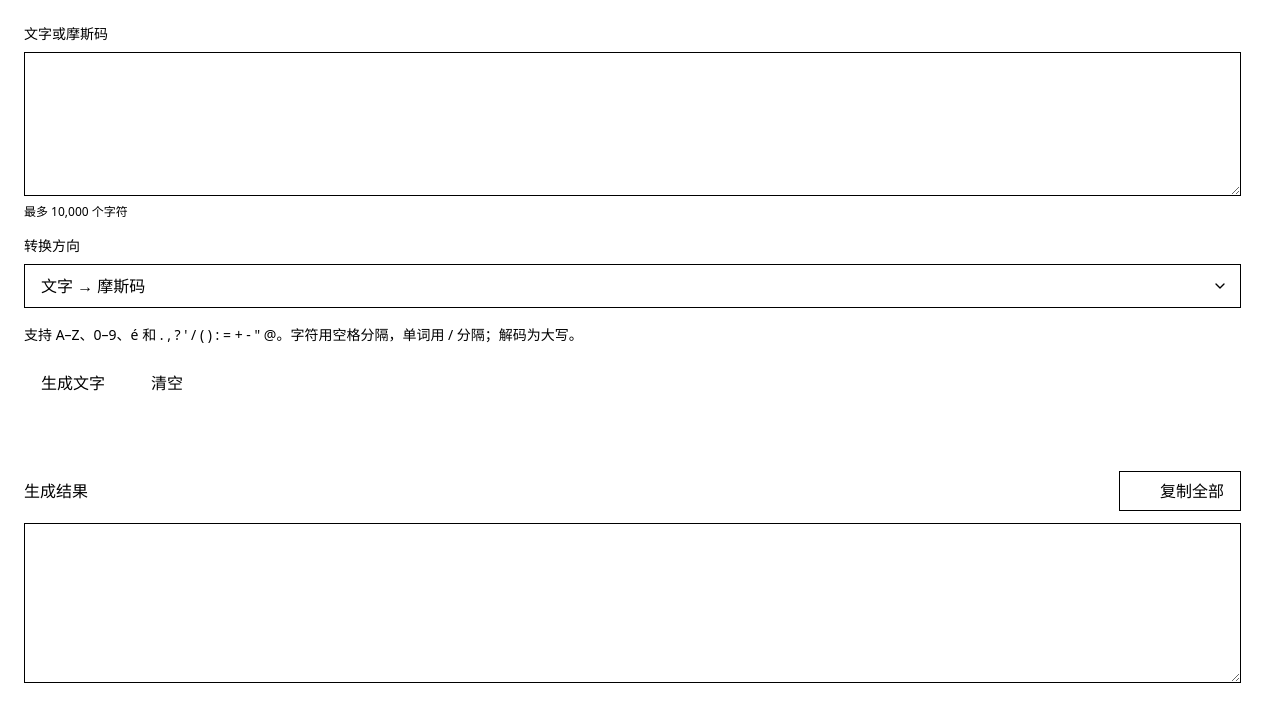
Test: 文字工具交互 › 摩斯未知字符显式报错
Type "中文A" into the text box labelled "文字或摩斯码" at [632, 124], box [24,52,1241,196]
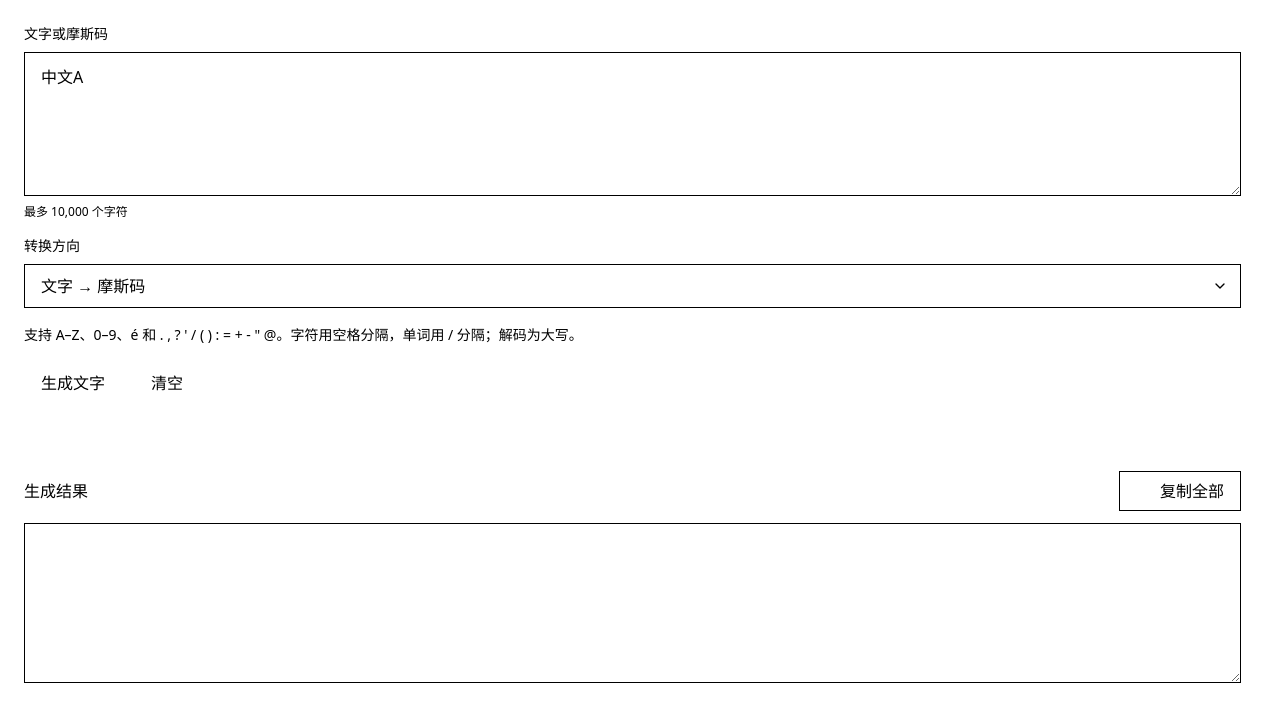
Click the button "生成文字" at [73, 383], box [24,363,122,403]
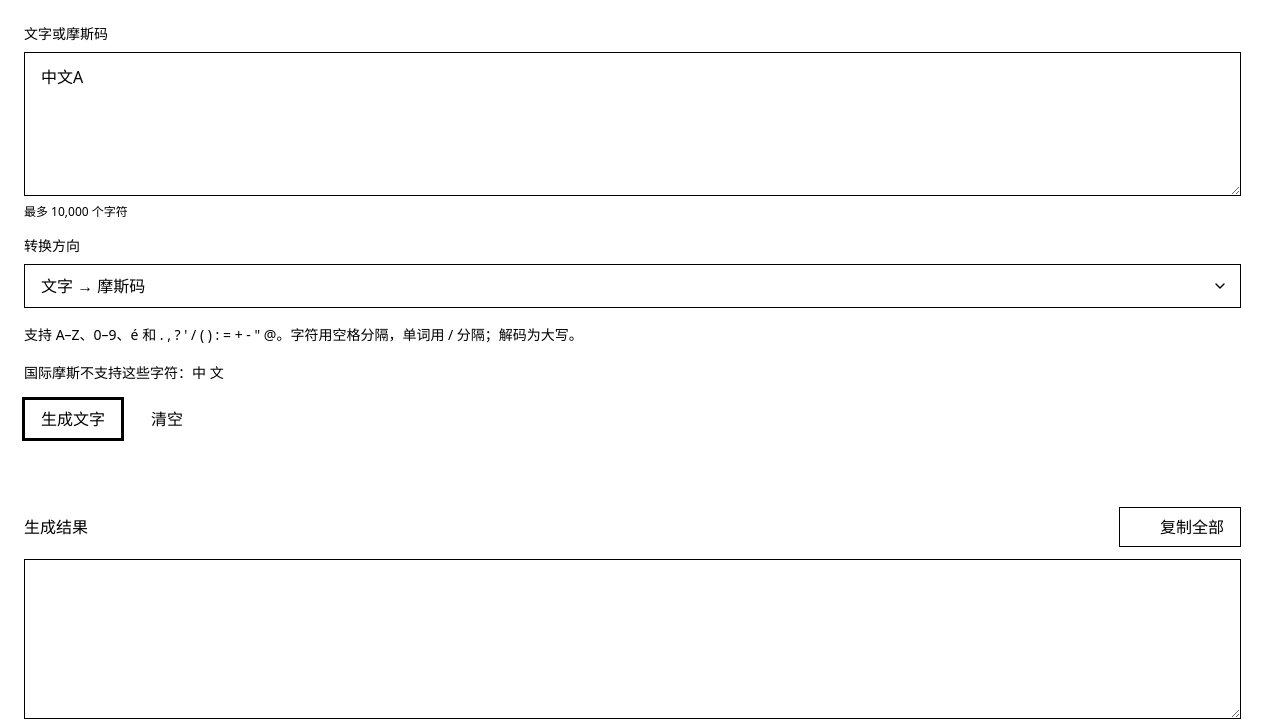
Expected: the text box named "生成结果" is empty, [24,559,1241,719]
Expected: the text "国际摩斯不支持这些字符：中 文" is shown, [24,363,224,382]
